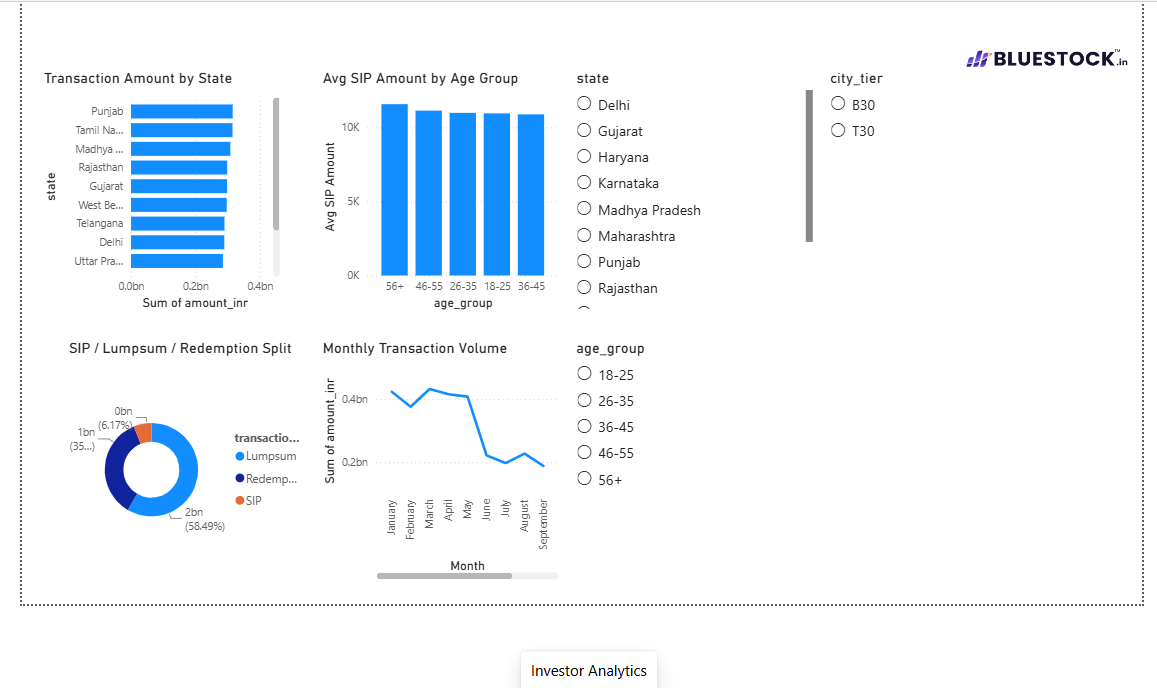

What the dashboard file says about the page in this screenshot:
{"tool":"powerbi","page":{"name":"Investor Analytics","canvas":[1280,720],"ordinal":2},"visuals":[{"type":"clusteredBarChart","title":"Transaction Amount by State","fields":{"Category":["InvestorTransactions.state"],"Y":["Sum(InvestorTransactions.amount_inr)"]},"box":[20,108.6,280,280],"z":0},{"type":"donutChart","title":"SIP / Lumpsum / Redemption Split","fields":{"Category":["InvestorTransactions.transaction_type"],"Y":["Sum(InvestorTransactions.amount_inr)"]},"box":[48.6,417.1,280,280],"z":1000},{"type":"clusteredColumnChart","title":"Avg SIP Amount by Age Group","fields":{"Category":["InvestorTransactions.age_group"],"Y":["InvestorTransactions.Avg SIP Amount"]},"box":[339,109,280,280],"z":2000},{"type":"lineChart","title":"Monthly Transaction Volume","fields":{"Category":["InvestorTransactions.transaction_date.Variation.Date Hierarchy.Year","InvestorTransactions.transaction_date.Variation.Date Hierarchy.Quarter","InvestorTransactions.transaction_date.Variation.Date Hierarchy.Month","InvestorTransactions.transaction_date.Variation.Date Hierarchy.Day"],"Y":["Sum(InvestorTransactions.amount_inr)"]},"box":[339,417,280,280],"z":3000},{"type":"listSlicer","fields":{"Values":["InvestorTransactions.state"]},"box":[629,109,280,280],"z":4000},{"type":"listSlicer","fields":{"Values":["InvestorTransactions.age_group"]},"box":[629,417,280,280],"z":5000},{"type":"listSlicer","fields":{"Values":["InvestorTransactions.city_tier"]},"box":[919,109,280,280],"z":6000},{"type":"image","box":[1078.6,70,186.6,52.1],"z":6001}]}

Visuals, with their boxes on the page's 1280x720 design canvas (x1, y1, x2, y2). These are canvas units, not pixel positions in the 1157x688 screenshot, which may show the page scaled, cropped or inside an application window:
"Transaction Amount by State" clusteredBarChart: Rect(20, 109, 300, 389)
"SIP / Lumpsum / Redemption Split" donutChart: Rect(49, 417, 329, 697)
"Avg SIP Amount by Age Group" clusteredColumnChart: Rect(339, 109, 619, 389)
"Monthly Transaction Volume" lineChart: Rect(339, 417, 619, 697)
listSlicer - InvestorTransactions.state: Rect(629, 109, 909, 389)
listSlicer - InvestorTransactions.age_group: Rect(629, 417, 909, 697)
listSlicer - InvestorTransactions.city_tier: Rect(919, 109, 1199, 389)
image: Rect(1079, 70, 1265, 122)
